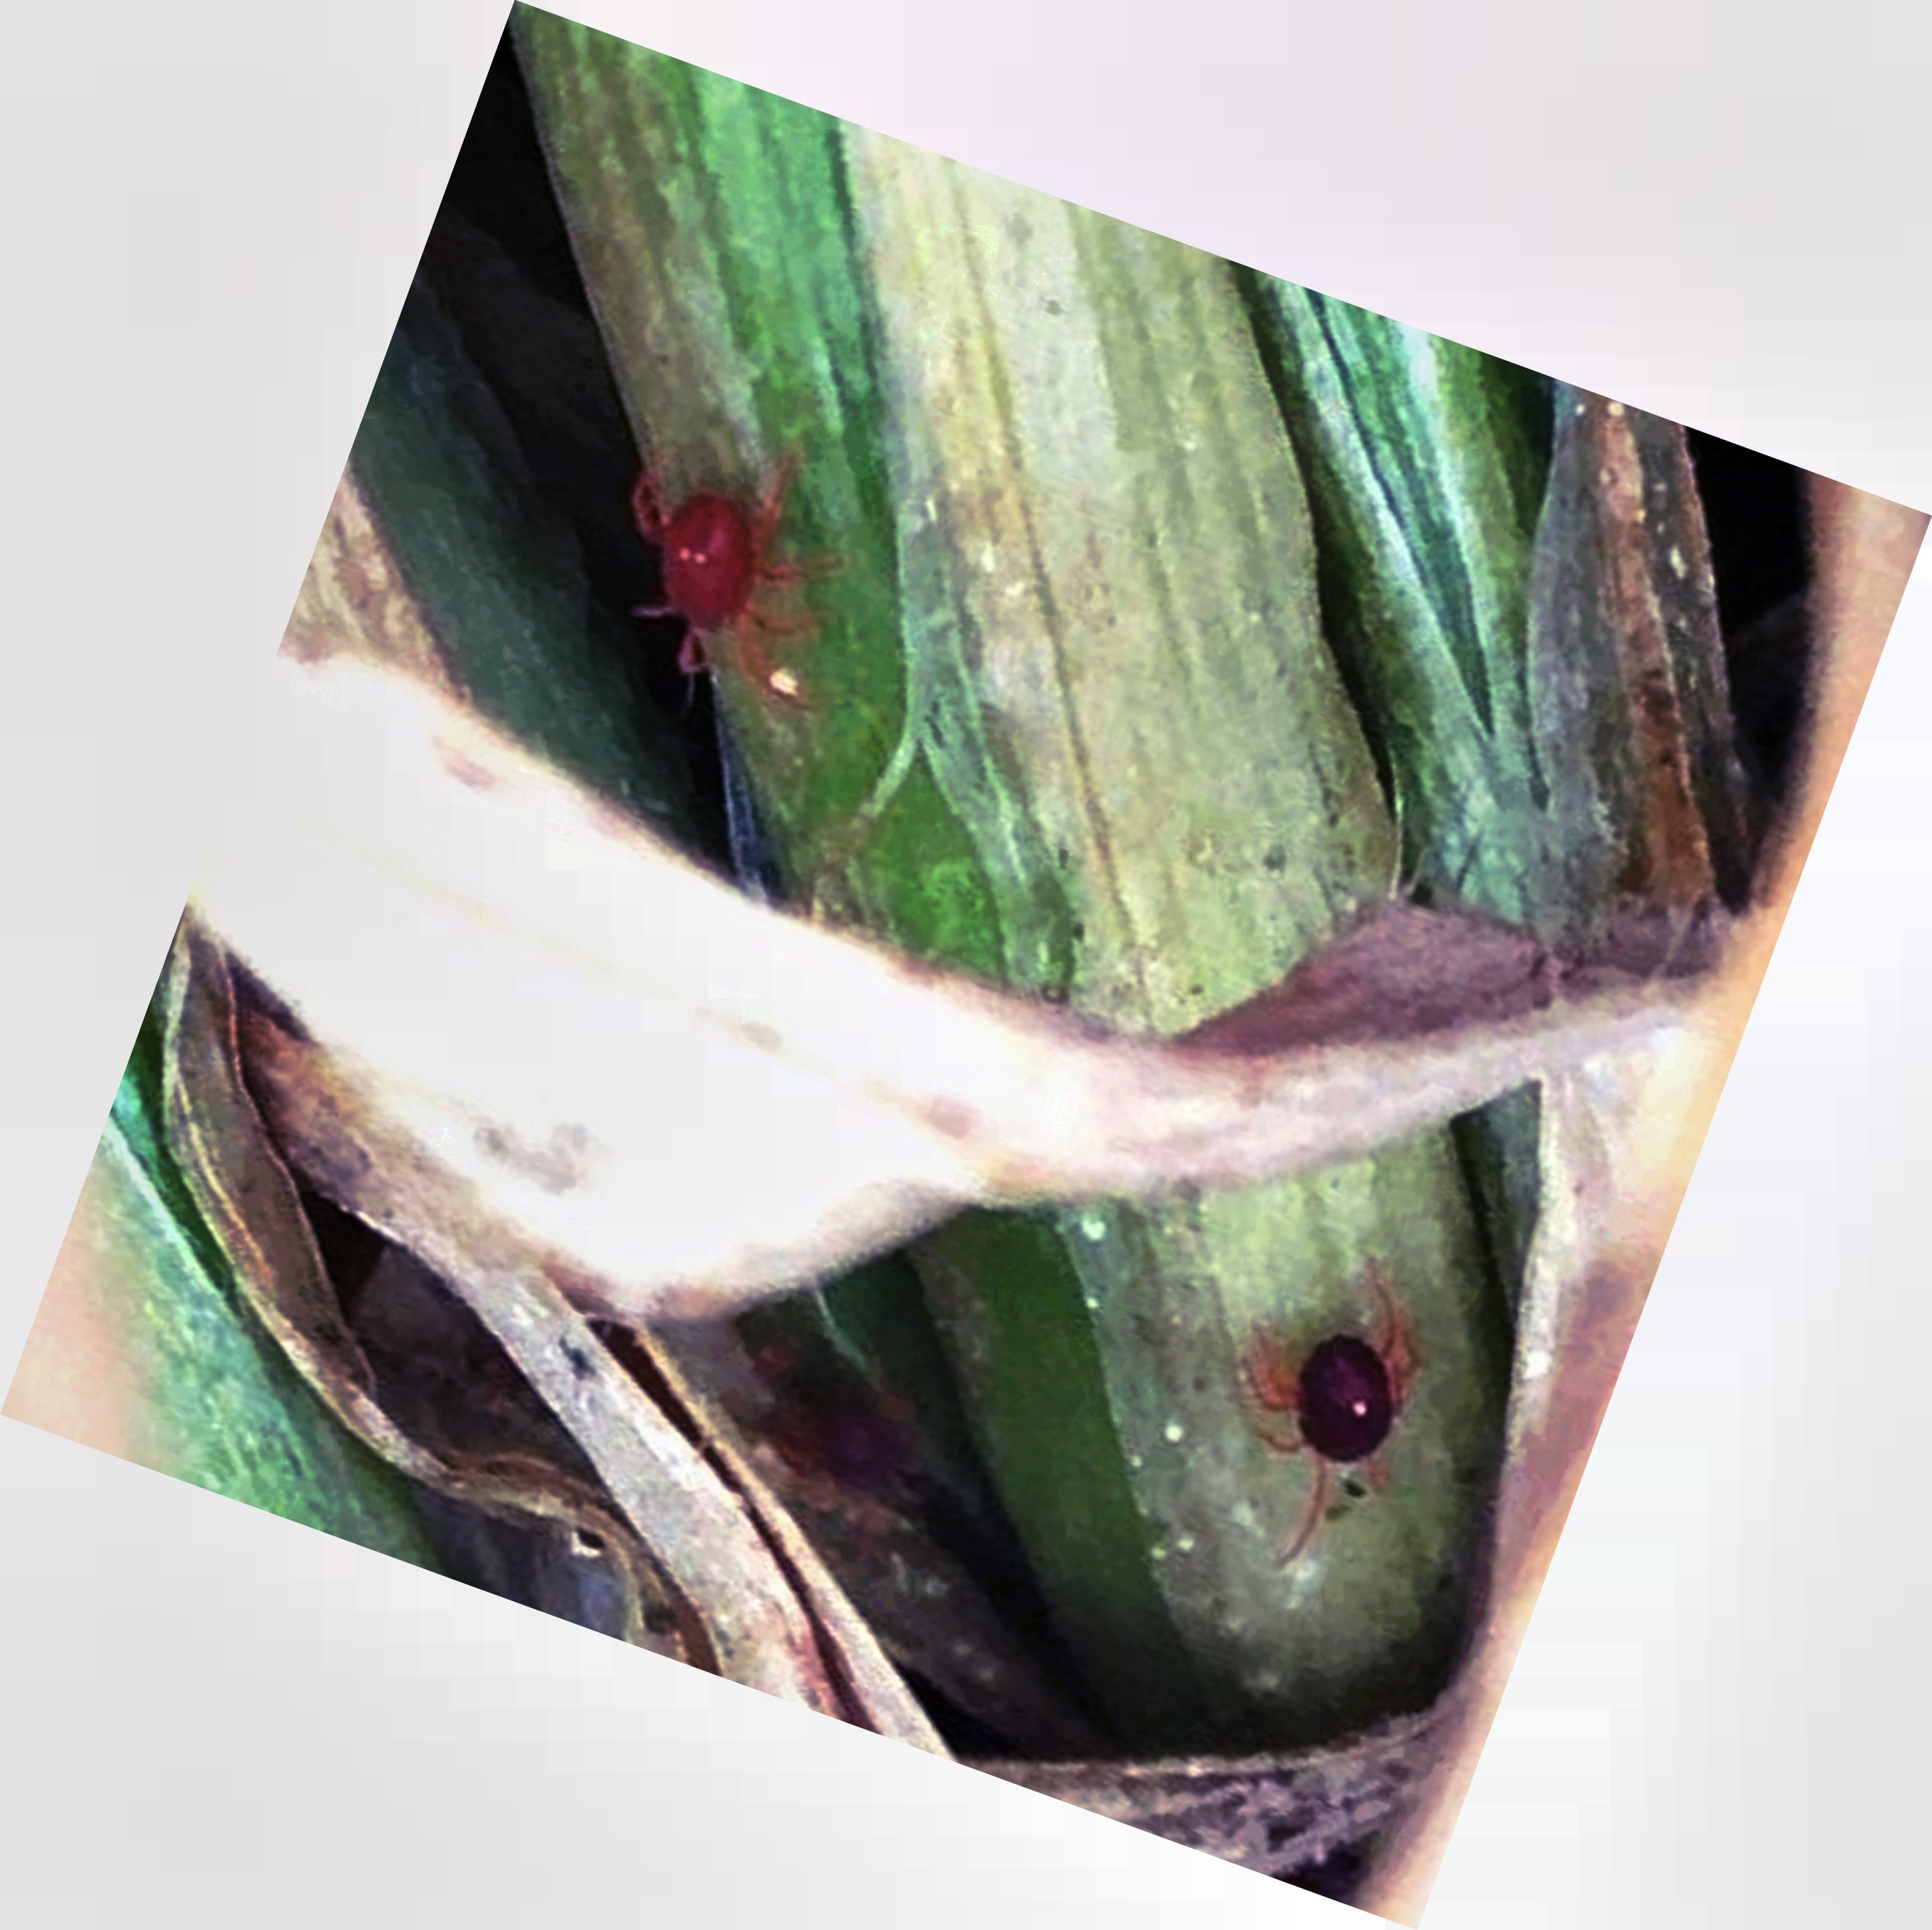Wheat Red Spider: (596, 396, 879, 785), (1230, 1262, 1467, 1582)
